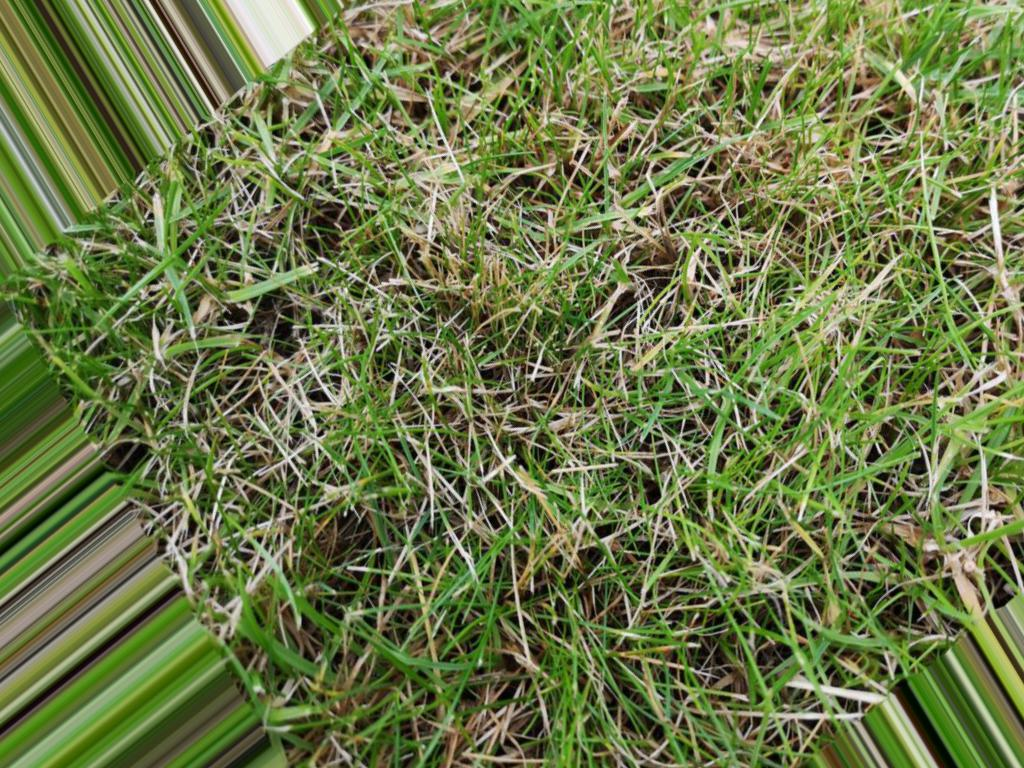patch: (411, 148, 480, 217)
